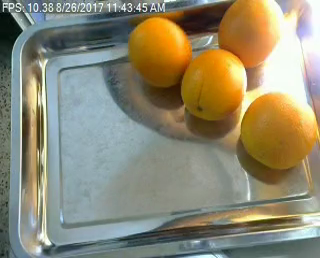Orange: (240, 91, 317, 169), (181, 48, 247, 119), (128, 16, 193, 85), (218, 1, 283, 69)
